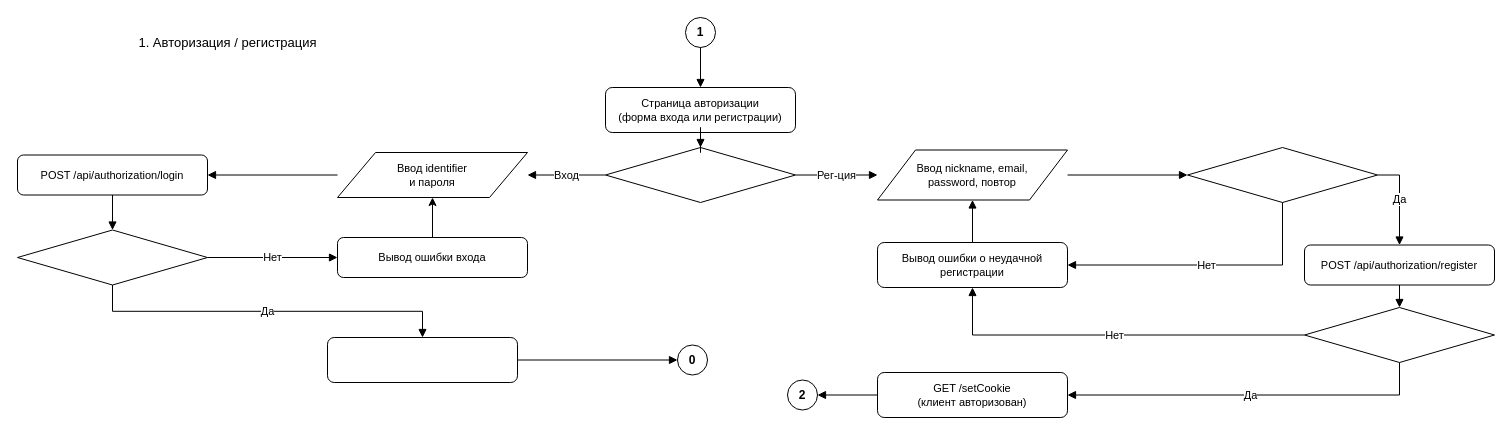
Image size: 1512x435. Some labels were removed from this diagram. The centre of each missing label's shape, as x and y in pixels:
"GET /setcookie (sessionToken записан)" goes at [422,359].
"Вход или регистрация?" goes at [700,174].
"Вход успешен?" goes at [112,257].
"Пароли совпадают?" goes at [1282,174].
"Регистрация успешна?" goes at [1399,334].
